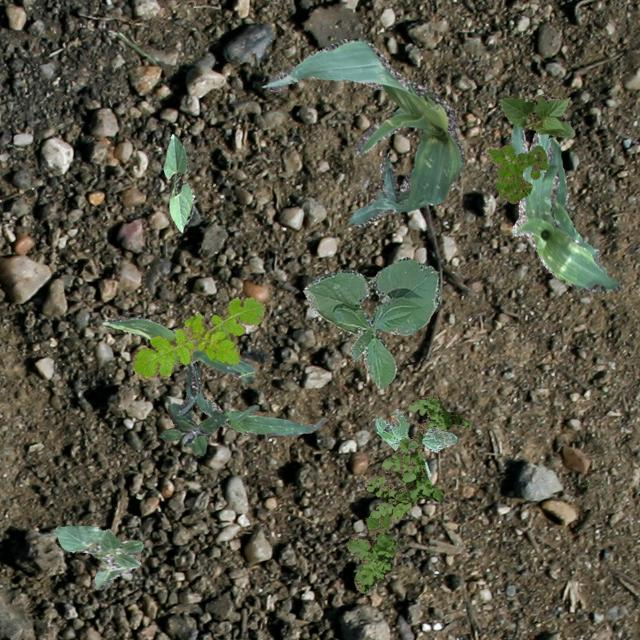crop: (262, 38, 462, 226), (302, 256, 438, 388), (510, 130, 620, 292), (102, 316, 254, 416), (509, 124, 605, 274), (196, 364, 324, 436), (54, 524, 142, 588), (498, 92, 574, 136), (162, 132, 194, 232)
weed: (346, 394, 469, 592), (130, 296, 264, 379), (374, 408, 456, 478), (484, 144, 548, 202), (158, 402, 226, 454)
